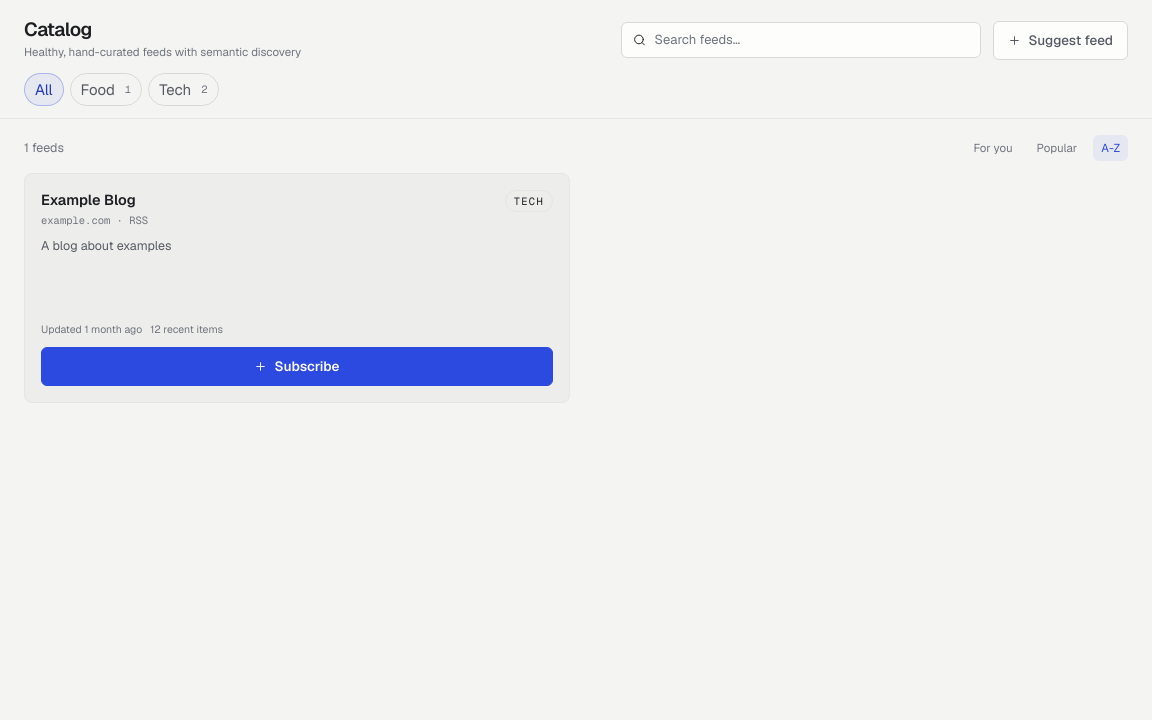
Test: catalog detail modal › opens from the card and shows metadata plus live stories
Click the button "Example Blog" at [88, 200], box [41, 190, 136, 210]
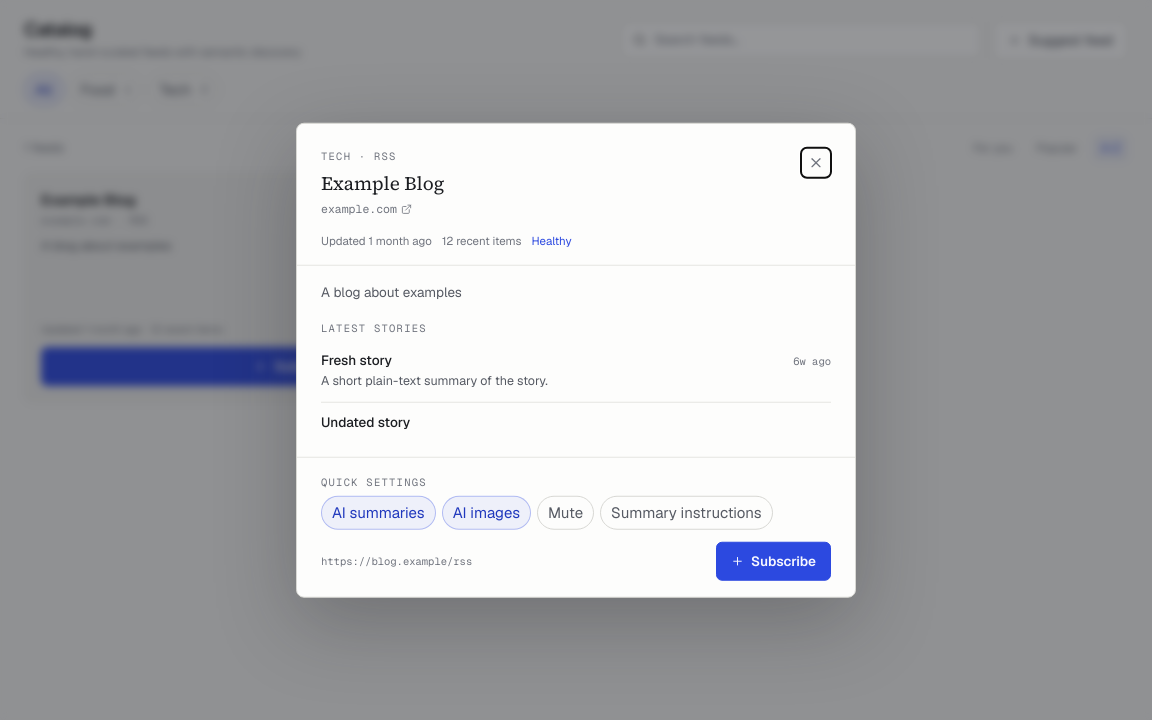
Check: the text "Tech · RSS" is shown, box [321, 149, 397, 163]
Check: the text "A blog about examples" is shown, box [321, 283, 462, 301]
Check: the text "12 recent items" is shown, box [442, 231, 522, 249]
